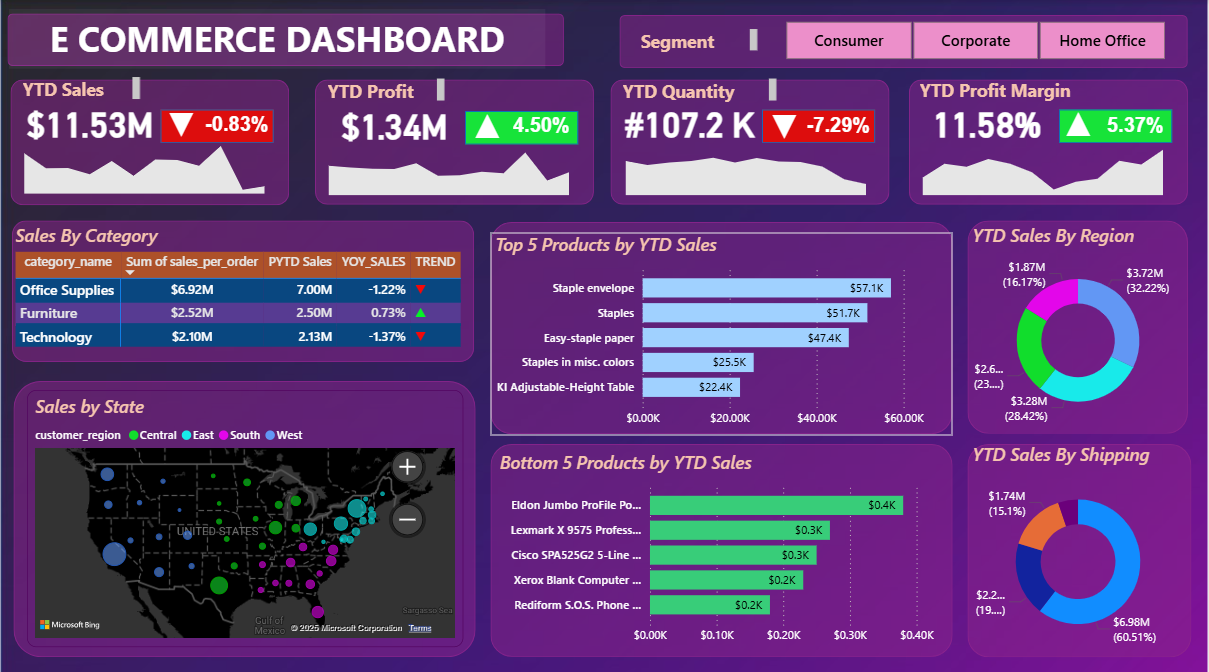

The page's visual inventory and layout, read from the dashboard file:
{"tool":"powerbi","page":{"name":"Page 1","canvas":[1280,720],"ordinal":0},"visuals":[{"type":"shape","box":[8.6,14.3,590,55.7],"z":0},{"type":"textbox","box":[10,8.9,568.9,63.3],"z":1000},{"type":"shape","box":[11.1,84.4,295.6,133.3],"z":2000},{"type":"card","fields":{"Values":["ecommerce_data.YTD SALES"]},"box":[18.3,88.3,151.7,80],"z":3000},{"type":"areaChart","fields":{"Category":["Calendar.Month"],"Y":["Sum(ecommerce_data.sales_per_order)"]},"box":[11.1,140,283.3,70],"z":4000},{"type":"shape","box":[170,115.6,120,35.6],"z":5000},{"type":"card","fields":{"Values":["ecommerce_data.YOY_SALES"]},"box":[191.4,110,120,44.3],"z":6000},{"type":"card","fields":{"Values":["ecommerce_data.SALES_ICON"]},"box":[167.1,108.6,50,44.3],"z":7000},{"type":"textbox","box":[18.6,77.1,134.3,34.3],"z":8000},{"type":"shape","box":[333.6,84.6,295.7,132.9],"z":9000},{"type":"card","fields":{"Values":["ecommerce_data.YTD PROFIT"]},"box":[341.2,89.9,151.7,80],"z":10000},{"type":"areaChart","fields":{"Category":["Calendar.Month"],"Y":["Sum(ecommerce_data.profit_per_order)"]},"box":[334,141.6,283.3,70],"z":11000},{"type":"shape","box":[492.9,117.1,120,35.6],"z":12000},{"type":"card","fields":{"Values":["ecommerce_data.YOY_PROFIT"]},"box":[514.3,111.6,120,44.3],"z":13000},{"type":"card","fields":{"Values":["ecommerce_data.PROFIT_ICON"]},"box":[491.4,110,50,44.3],"z":14000},{"type":"textbox","box":[341.4,78.6,134.3,34.3],"z":15000},{"type":"shape","box":[648,84.3,295.7,132.9],"z":16000},{"type":"card","fields":{"Values":["ecommerce_data.YTD CONCATENATED"]},"box":[655.6,89.6,151.7,80],"z":17000},{"type":"areaChart","fields":{"Category":["Calendar.Month"],"Y":["Sum(ecommerce_data.order_quantity)"]},"box":[648.4,141.3,283.3,70],"z":18000},{"type":"shape","box":[807.3,116.8,120,35.6],"z":19000},{"type":"card","fields":{"Values":["ecommerce_data.YOY_QTY"]},"box":[828.6,111.4,120,44.3],"z":20000},{"type":"card","fields":{"Values":["ecommerce_data.QTY_ICON"]},"box":[805.9,109.7,50,44.3],"z":21000},{"type":"textbox","box":[655.7,78.6,172.9,34.3],"z":22000},{"type":"shape","box":[963.2,84.3,295.7,132.9],"z":23000},{"type":"card","fields":{"Values":["ecommerce_data.PROFIT MARGIN"]},"box":[970.9,89.6,151.7,80],"z":24000},{"type":"areaChart","fields":{"Category":["Calendar.Month"],"Y":["ecommerce_data.PROFIT MARGIN"]},"box":[963.6,141.3,283.3,70],"z":25000},{"type":"shape","box":[1122.5,116.9,120,35.6],"z":26000},{"type":"card","fields":{"Values":["ecommerce_data.YOY_PROFIT MARGIN"]},"box":[1143.8,111.5,120,44.3],"z":27000},{"type":"card","fields":{"Values":["ecommerce_data.PM_ICON"]},"box":[1118.6,108.6,50,44.3],"z":28000},{"type":"textbox","box":[970.3,77.9,197.2,35],"z":29000},{"type":"shape","box":[12.9,234.3,490,150],"z":30000},{"type":"pivotTable","title":"Sales By Category","fields":{"Rows":["ecommerce_data.category_name"],"Values":["Sum(ecommerce_data.sales_per_order)","ecommerce_data.PYTD Sales","ecommerce_data.YOY_SALES","ecommerce_data.SALES_ICON"]},"box":[11.4,237.1,490,147.1],"z":31000},{"type":"shape","box":[14.3,404.3,490,292.9],"z":32000},{"type":"map","title":"Sales by State","fields":{"Y":["us_state_long_lat_codes.latitude"],"X":["us_state_long_lat_codes.longitude"],"Size":["ecommerce_data.YTD SALES"],"Series":["ecommerce_data.customer_region"]},"box":[28.6,414.3,462.9,272.9],"z":33000},{"type":"shape","box":[520,235.7,490,225],"z":34000},{"type":"shape","box":[520,471.4,490,225.7],"z":35000},{"type":"barChart","title":"Top 5 Products by YTD Sales","fields":{"Y":["ecommerce_data.YTD SALES"],"Category":["ecommerce_data.product_name"]},"box":[520,247.1,490,214.3],"z":36000},{"type":"barChart","title":"Bottom 5 Products by YTD Sales","fields":{"Y":["ecommerce_data.YTD SALES"],"Category":["ecommerce_data.product_name"]},"box":[524.3,477.1,490,214.3],"z":37000},{"type":"shape","box":[1026.2,233.8,233.8,226.2],"z":38000},{"type":"shape","box":[1026.2,471.2,237.5,226.2],"z":39000},{"type":"donutChart","title":"YTD Sales By Region","fields":{"Category":["ecommerce_data.customer_region"],"Y":["ecommerce_data.YTD SALES"]},"box":[1026.2,237.5,233.8,222.5],"z":40000},{"type":"donutChart","title":"YTD Sales By Shipping","fields":{"Y":["ecommerce_data.YTD SALES"],"Category":["ecommerce_data.shipping_type"]},"box":[1026.2,470,233.8,227.5],"z":41000},{"type":"shape","box":[657.5,16.2,602.5,56.2],"z":42000},{"type":"slicer","fields":{"Values":["ecommerce_data.customer_segment"]},"box":[807.5,16.2,451.2,53.8],"z":43000},{"type":"textbox","box":[673.8,25,133.8,33.8],"z":44000}]}

Visuals, with their boxes in screenshot pixels (x1, y1, x2, y2), scaled from the page's 1280x720 canvas onto the 1209x672 screenshot:
shape: 8/13/565/65
textbox: 9/8/547/67
shape: 10/79/290/203
card - ecommerce_data.YTD SALES: 17/82/161/157
areaChart - Calendar.Month x Sum(ecommerce_data.sales_per_order): 10/131/278/196
shape: 161/108/274/141
card - ecommerce_data.YOY_SALES: 181/103/294/144
card - ecommerce_data.SALES_ICON: 158/101/205/143
textbox: 18/72/144/104
shape: 315/79/594/203
card - ecommerce_data.YTD PROFIT: 322/84/466/159
areaChart - Calendar.Month x Sum(ecommerce_data.profit_per_order): 315/132/583/197
shape: 466/109/579/143
card - ecommerce_data.YOY_PROFIT: 486/104/599/146
card - ecommerce_data.PROFIT_ICON: 464/103/511/144
textbox: 322/73/449/105
shape: 612/79/891/203
card - ecommerce_data.YTD CONCATENATED: 619/84/763/158
areaChart - Calendar.Month x Sum(ecommerce_data.order_quantity): 612/132/880/197
shape: 763/109/876/142
card - ecommerce_data.YOY_QTY: 783/104/896/145
card - ecommerce_data.QTY_ICON: 761/102/808/144
textbox: 619/73/783/105
shape: 910/79/1189/203
card - ecommerce_data.PROFIT MARGIN: 917/84/1060/158
areaChart - Calendar.Month x ecommerce_data.PROFIT MARGIN: 910/132/1178/197
shape: 1060/109/1174/142
card - ecommerce_data.YOY_PROFIT MARGIN: 1080/104/1194/145
card - ecommerce_data.PM_ICON: 1057/101/1104/143
textbox: 916/73/1103/105
shape: 12/219/475/359
"Sales By Category" pivotTable: 11/221/474/359
shape: 14/377/476/651
"Sales by State" map: 27/387/464/641
shape: 491/220/954/430
shape: 491/440/954/651
"Top 5 Products by YTD Sales" barChart: 491/231/954/431
"Bottom 5 Products by YTD Sales" barChart: 495/445/958/645
shape: 969/218/1190/429
shape: 969/440/1194/651
"YTD Sales By Region" donutChart: 969/222/1190/429
"YTD Sales By Shipping" donutChart: 969/439/1190/651
shape: 621/15/1190/68
slicer - ecommerce_data.customer_segment: 763/15/1189/65
textbox: 636/23/763/55
